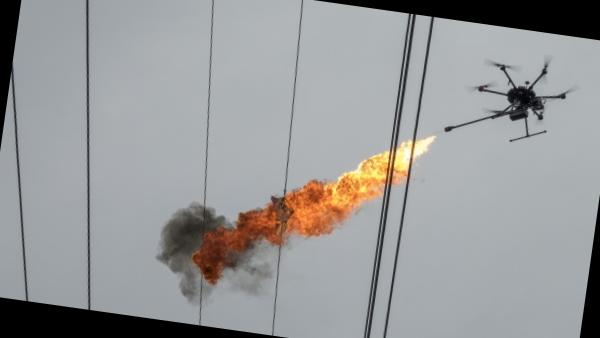drone: (456, 52, 586, 137)
